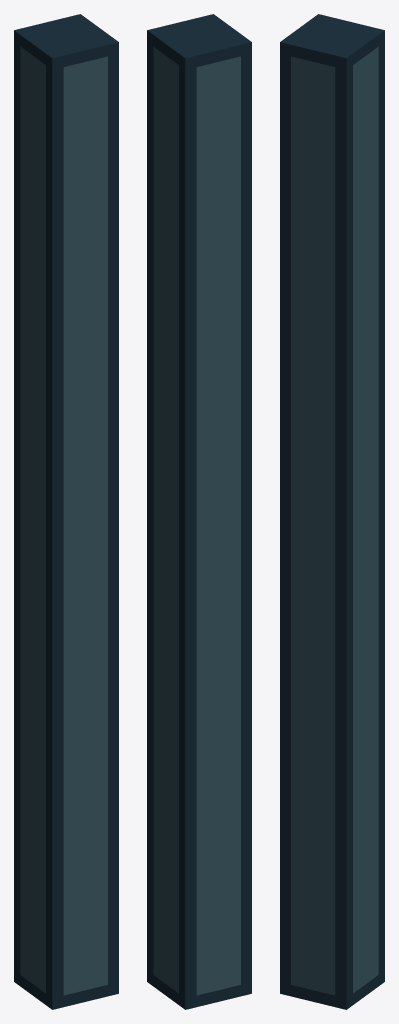
Rendered from stick_long.fbx.
3 renders of one model, left to right at view 1: azimuth 30°, elevation 25°; view 2: azimuth 210°, elevation 25°; view 3: azimuth 330°, elevation 25°, orthographic.
Visible parts, largest first — view 1: _8; view 2: _8; view 3: _8.
Part boxes in pixels (x1,y1,x2,y2): _8: (14,14,118,1009); _8: (147,14,251,1009); _8: (280,14,384,1009).
Size of the model in its own units: 6 by 82 by 6.
